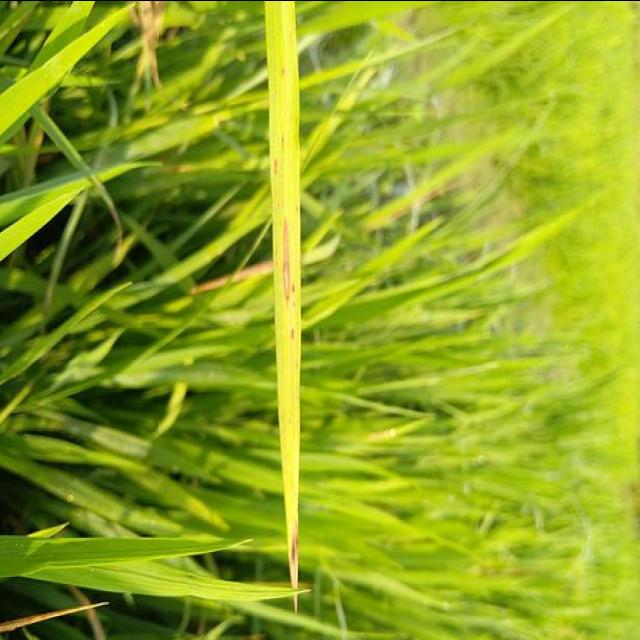Leaf Streak: (288, 520, 299, 612), (281, 216, 291, 299), (268, 156, 280, 200), (284, 326, 295, 337)
